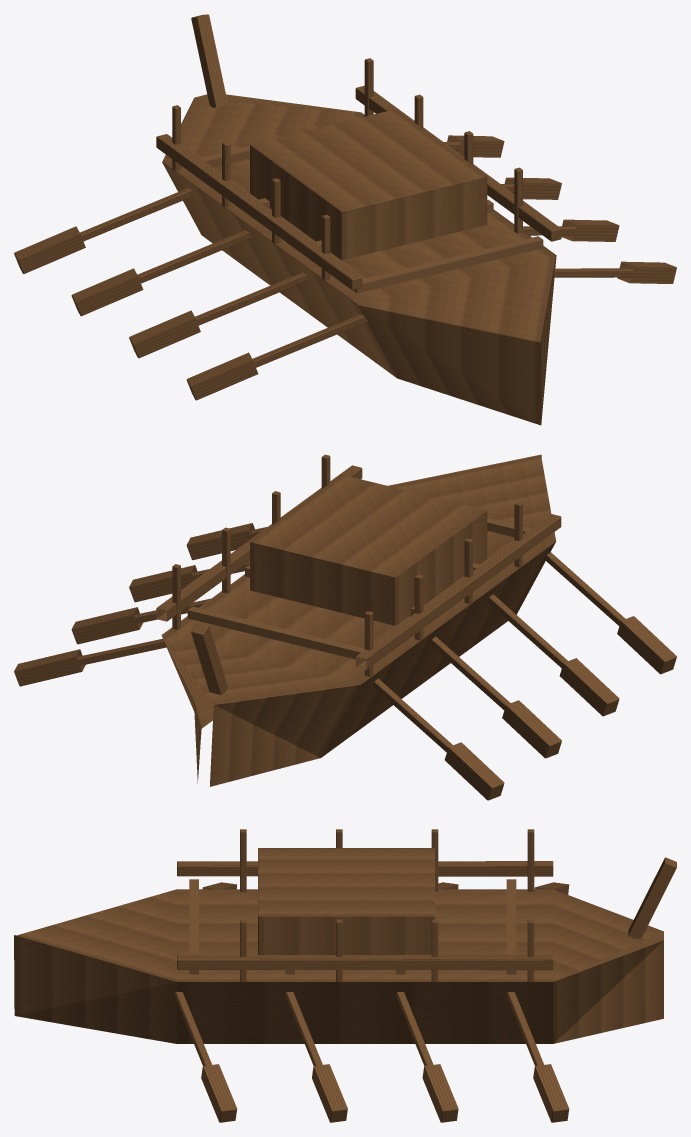
The model's file is unit-BOAT-lod0.glb.
3 renders of one model, top to bottom at view 1: azimuth 30°, elevation 25°; view 2: azimuth 150°, elevation 25°; view 3: azimuth 270°, elevation 25°, orthographic. The views are drawn at different scales.
Size of the model in its own units: 0.7331 by 0.2334 by 0.8985.
Materials: 1 (1 with a texture image).
